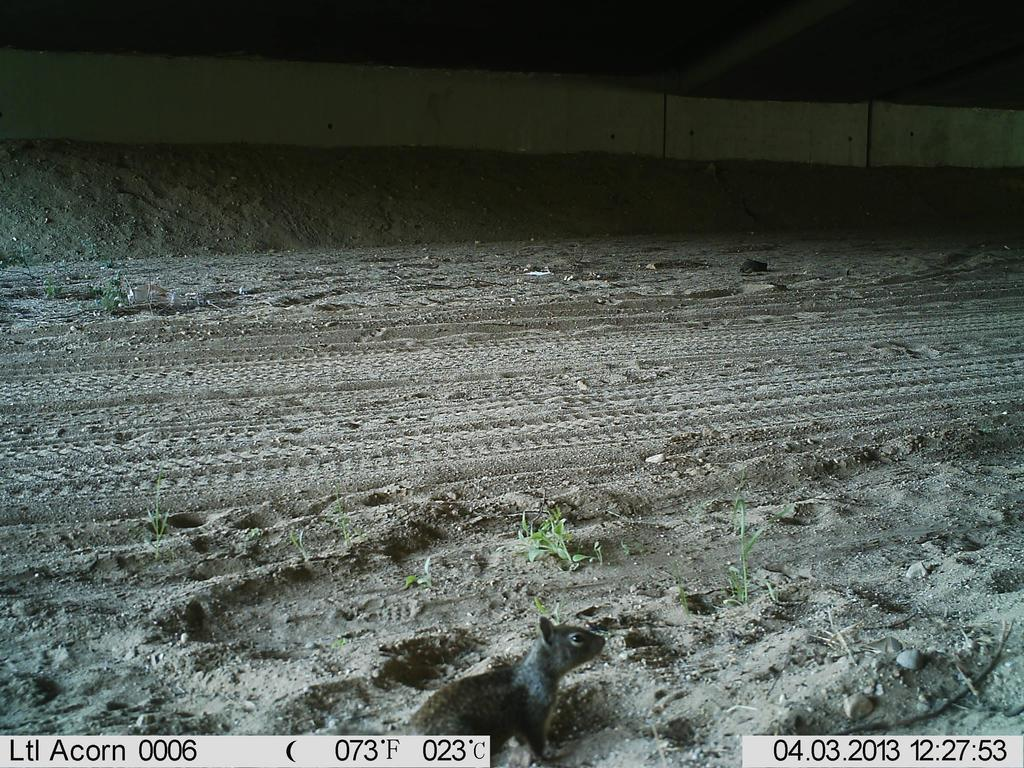squirrel: (399, 617, 609, 743)
